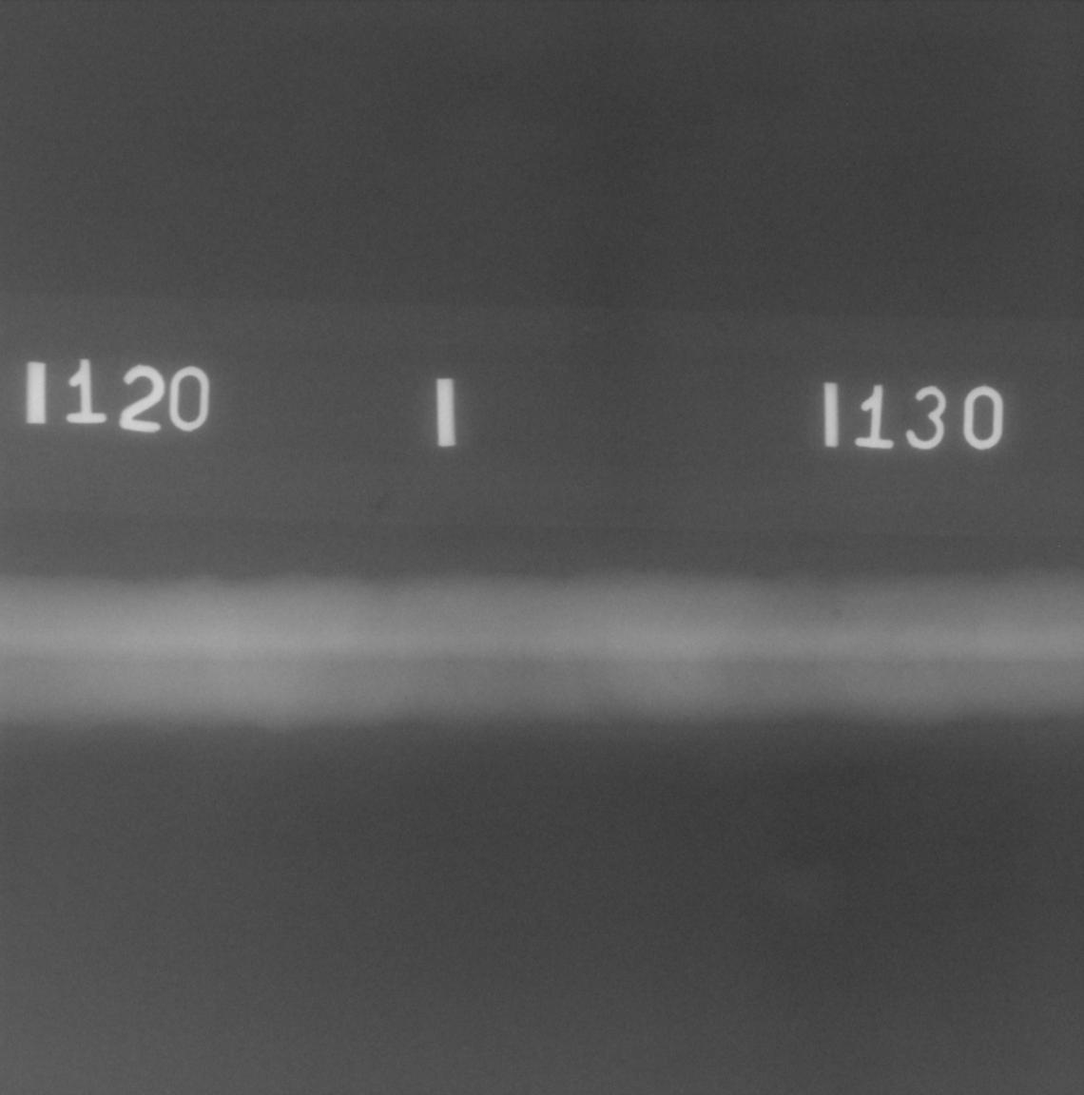Pore/Porosity: (832, 607, 844, 620)
